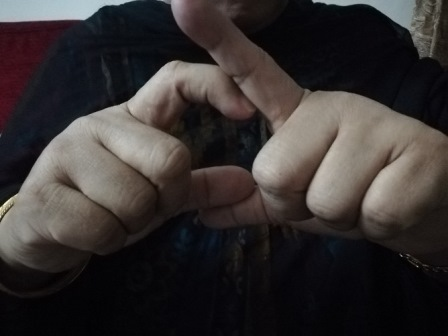kh: (110, 4, 386, 237)
